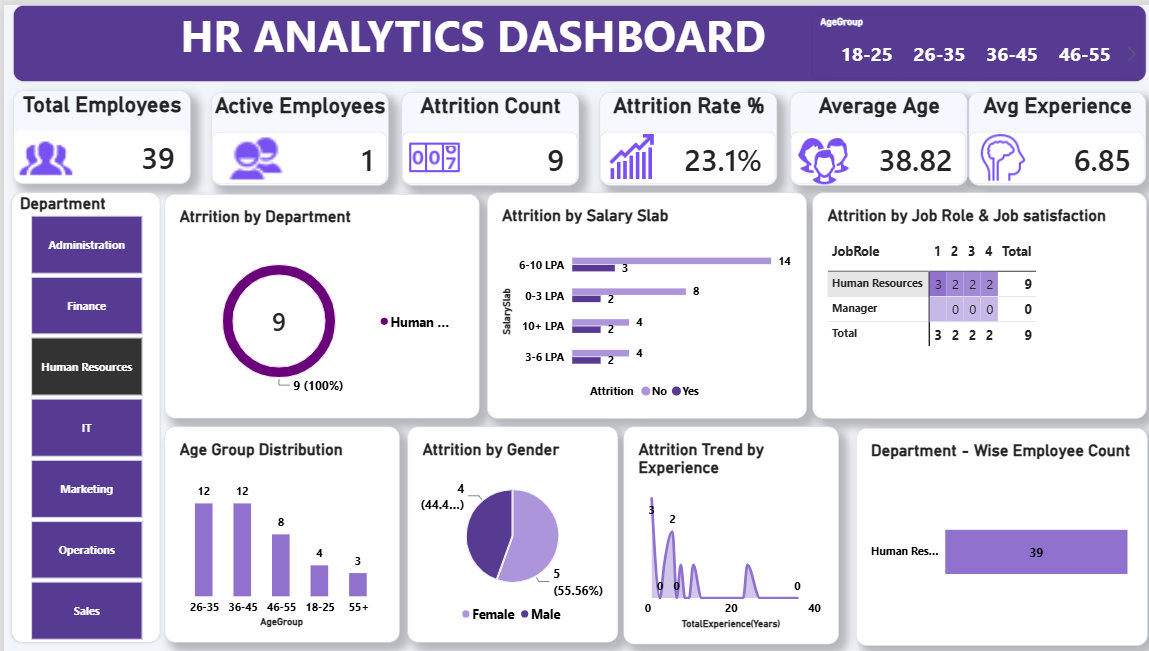

The page's visual inventory and layout, read from the dashboard file:
{"tool":"powerbi","page":{"name":"Page 1","canvas":[1920,1080],"ordinal":0},"visuals":[{"type":"textbox","box":[10,0,1259,85],"z":0},{"type":"cardVisual","title":"Total Employees","fields":{"Data":["Count(HR_Analytics-4.EmpID)"]},"box":[10,95,197,104],"z":1000},{"type":"cardVisual","title":"Active Employees","fields":{"Data":["Count(HR_Analytics-4.EmployeeCount)"]},"box":[230,96,197,104],"z":2000},{"type":"cardVisual","title":"Attrition Count","fields":{"Data":["Sum(HR_Analytics-4.AtrritionCount)"]},"box":[442,96,197,104],"z":3000},{"type":"cardVisual","title":"Attrition Rate %","fields":{"Data":["HR_Analytics-4.Attrition Rate %"]},"box":[662,96,197,104],"z":4000},{"type":"cardVisual","title":"Average Age","fields":{"Data":["Avg(HR_Analytics-4.Age)"]},"box":[874,96,197,104],"z":5000},{"type":"cardVisual","title":"Avg Experience","fields":{"Data":["Avg(HR_Analytics-4.YearsatCompany)"]},"box":[1072,96,197,104],"z":6000},{"type":"image","box":[10,140,73.3,58.3],"z":7000},{"type":"image","box":[1072.5,140,73.3,58.3],"z":8000},{"type":"image","box":[243.3,140,73.3,58.3],"z":9000},{"type":"image","box":[662.5,142.5,66.7,50],"z":10000},{"type":"image","box":[875,142.5,73.3,58.3],"z":11000},{"type":"image","box":[441.7,140,73.3,58.3],"z":12000},{"type":"donutChart","title":"Atrrition by Department","fields":{"Category":["HR_Analytics-4.Department"],"Y":["Sum(HR_Analytics-4.AtrritionCount)"]},"box":[179,210,350,249],"z":13000},{"type":"clusteredBarChart","title":"Attrition by Salary Slab","fields":{"Category":["HR_Analytics-4.SalarySlab"],"Series":["HR_Analytics-4.Attrition"],"Y":["CountNonNull(HR_Analytics-4.EmpID)"]},"box":[537,209,355,251],"z":14000},{"type":"pivotTable","title":"Attrition by Job Role & Job satisfaction","fields":{"Columns":["HR_Analytics-4.JobSatisfaction"],"Rows":["HR_Analytics-4.JobRole"],"Values":["Sum(HR_Analytics-4.AtrritionCount)"]},"box":[898,209,371,251],"z":15000},{"type":"columnChart","title":"Age Group Distribution","fields":{"Category":["HR_Analytics-4.AgeGroup"],"Y":["Sum(HR_Analytics-4.EmployeeCount)"]},"box":[179,469,261,240],"z":16000},{"type":"pieChart","title":"Attrition by Gender","fields":{"Category":["HR_Analytics-4.Gender"],"Y":["Sum(HR_Analytics-4.AtrritionCount)"]},"box":[448,469,234,240],"z":17000},{"type":"areaChart","title":"Attrition Trend by Experience","fields":{"Category":["HR_Analytics-4.TotalExperience(Years)"],"Y2":["Sum(HR_Analytics-4.AtrritionCount)"]},"box":[689,469,239,242],"z":18000},{"type":"funnel","title":"Department - Wise Employee Count","fields":{"Category":["HR_Analytics-4.Department"],"Y":["CountNonNull(HR_Analytics-4.EmpID)"]},"box":[946,470,324,242],"z":19000},{"type":"slicer","fields":{"Values":["HR_Analytics-4.Department"]},"box":[9,209,165,500],"z":20000},{"type":"slicer","fields":{"Values":["HR_Analytics-4.AgeGroup"]},"box":[898,12,361,68],"z":21000}]}

Visuals, with their boxes in screenshot pixels (x1, y1, x2, y2), scaled from the page's 1920x1080 canvas onto the 1149x651 screenshot:
textbox: box=[6, 0, 759, 51]
"Total Employees" cardVisual: box=[6, 57, 124, 120]
"Active Employees" cardVisual: box=[138, 58, 256, 121]
"Attrition Count" cardVisual: box=[265, 58, 382, 121]
"Attrition Rate %" cardVisual: box=[396, 58, 514, 121]
"Average Age" cardVisual: box=[523, 58, 641, 121]
"Avg Experience" cardVisual: box=[642, 58, 759, 121]
image: box=[6, 84, 50, 120]
image: box=[642, 84, 686, 120]
image: box=[146, 84, 189, 120]
image: box=[396, 86, 436, 116]
image: box=[524, 86, 567, 121]
image: box=[264, 84, 308, 120]
"Atrrition by Department" donutChart: box=[107, 127, 317, 277]
"Attrition by Salary Slab" clusteredBarChart: box=[321, 126, 534, 277]
"Attrition by Job Role & Job satisfaction" pivotTable: box=[537, 126, 759, 277]
"Age Group Distribution" columnChart: box=[107, 283, 263, 427]
"Attrition by Gender" pieChart: box=[268, 283, 408, 427]
"Attrition Trend by Experience" areaChart: box=[412, 283, 555, 429]
"Department - Wise Employee Count" funnel: box=[566, 283, 760, 429]
slicer - HR_Analytics-4.Department: box=[5, 126, 104, 427]
slicer - HR_Analytics-4.AgeGroup: box=[537, 7, 753, 48]
